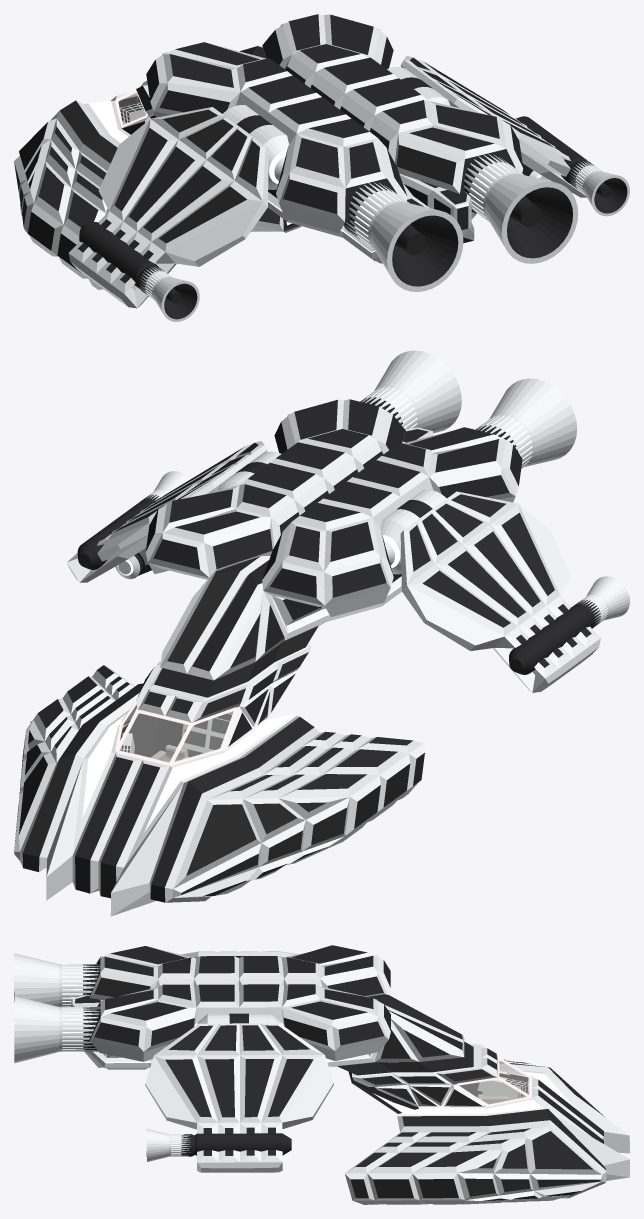
The model's file is npcShip100.glb.
The picture shows the model from 3 angles, top to bottom: view 1: azimuth 30°, elevation 25°; view 2: azimuth 150°, elevation 25°; view 3: azimuth 270°, elevation 25°; orthographic projection. The views are drawn at different scales.
Visible parts, largest first — view 1: LAC-410_Body, LAC-410_Wing.L, LAC-410_BigEngine, LAC-410_Wing.R, LAC-410_WingHeader, LAC-410_SmallEngine.L, LAC-410_SmallEngine.R, LAC-410_Glass; view 2: LAC-410_Body, LAC-410_Wing.L, LAC-410_BigEngine, LAC-410_Wing.R, LAC-410_Glass, LAC-410_WingHeader, LAC-410_SmallEngine.L, LAC-410_GlassCanvas, LAC-410_UppaerArm.R; view 3: LAC-410_Body, LAC-410_Wing.R, LAC-410_BigEngine, LAC-410_Glass, LAC-410_SmallEngine.R, LAC-410_GlassCanvas, LAC-410_WingHeader, LAC-410_Wing.L.
Boxes of the visible parts, <box> form: LAC-410_Body: <box>14,14,523,289</box>; LAC-410_Wing.L: <box>68,107,268,308</box>; LAC-410_BigEngine: <box>343,154,578,291</box>; LAC-410_Wing.R: <box>401,56,587,197</box>; LAC-410_WingHeader: <box>222,67,450,189</box>; LAC-410_SmallEngine.L: <box>138,266,199,321</box>; LAC-410_SmallEngine.R: <box>568,160,629,216</box>; LAC-410_Glass: <box>118,93,148,124</box>; LAC-410_Body: <box>14,399,522,916</box>; LAC-410_Wing.L: <box>400,491,600,692</box>; LAC-410_BigEngine: <box>360,350,577,468</box>; LAC-410_Wing.R: <box>67,441,267,582</box>; LAC-410_Glass: <box>119,705,233,762</box>; LAC-410_WingHeader: <box>218,451,446,574</box>; LAC-410_SmallEngine.L: <box>572,576,629,628</box>; LAC-410_GlassCanvas: <box>115,700,268,765</box>; LAC-410_UppaerArm.R: <box>115,462,267,579</box>; LAC-410_Body: <box>71,945,629,1204</box>; LAC-410_Wing.R: <box>145,1023,333,1172</box>; LAC-410_BigEngine: <box>14,953,100,1063</box>; LAC-410_Glass: <box>459,1060,529,1104</box>; LAC-410_SmallEngine.R: <box>146,1129,195,1161</box>; LAC-410_GlassCanvas: <box>418,1057,531,1108</box>; LAC-410_WingHeader: <box>194,1013,284,1026</box>; LAC-410_Wing.L: <box>180,951,298,958</box>.
Bounding box in the file's own units: 75.03 × 38.57 × 110.
2 materials, 1 textured.
